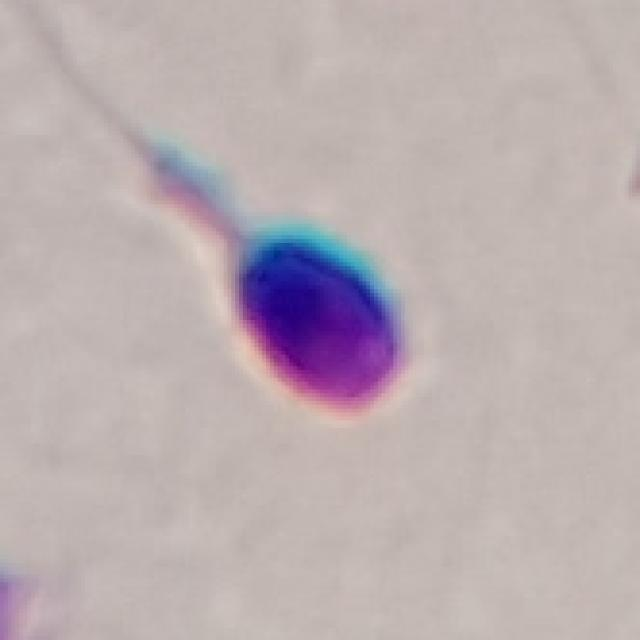normal sperm: (156, 151, 409, 414)
